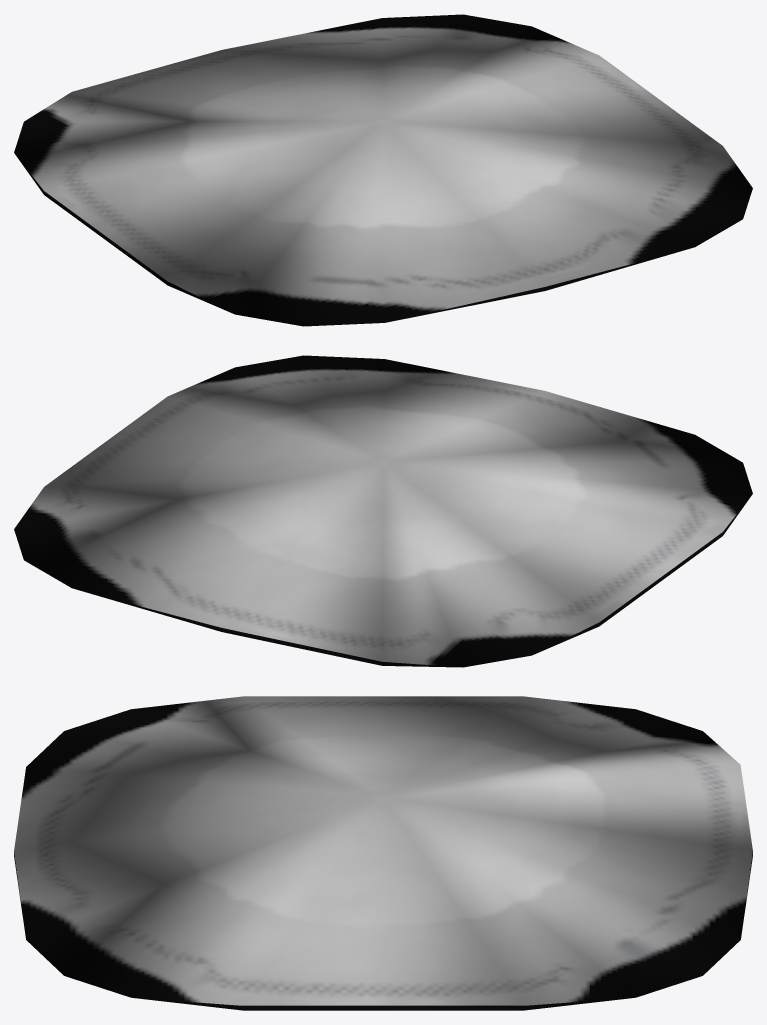
The model's file is Head_C2.fbx.
3 views of the same model, one above another, from view 1: azimuth 30°, elevation 25°; view 2: azimuth 150°, elevation 25°; view 3: azimuth 270°, elevation 25° (orthographic). The views are drawn at different scales.
Visible parts, largest first — view 1: Civ_Sombrero_Head_C2; view 2: Civ_Sombrero_Head_C2; view 3: Civ_Sombrero_Head_C2.
Part boxes in pixels (x1,y1,x2,y2): Civ_Sombrero_Head_C2: [14, 14, 752, 326]; Civ_Sombrero_Head_C2: [14, 355, 752, 667]; Civ_Sombrero_Head_C2: [14, 696, 752, 1010].
Size of the model in its own units: 1.27 by 0.2143 by 1.28.
